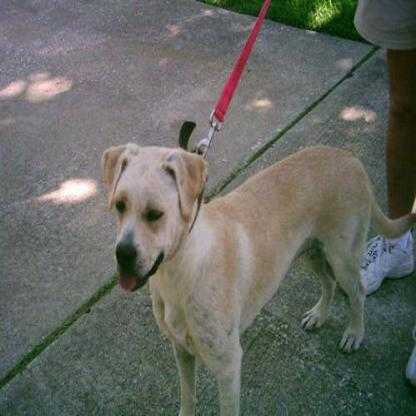dog: (102, 141, 322, 394)
